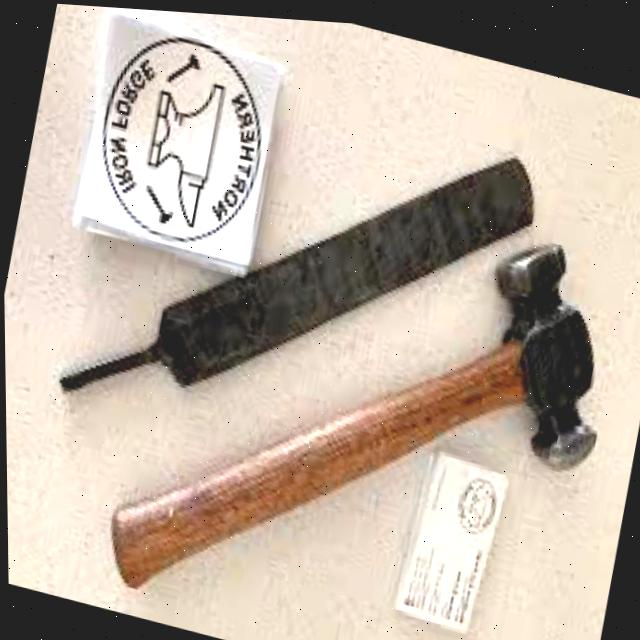hammer: (83, 131, 636, 640)
